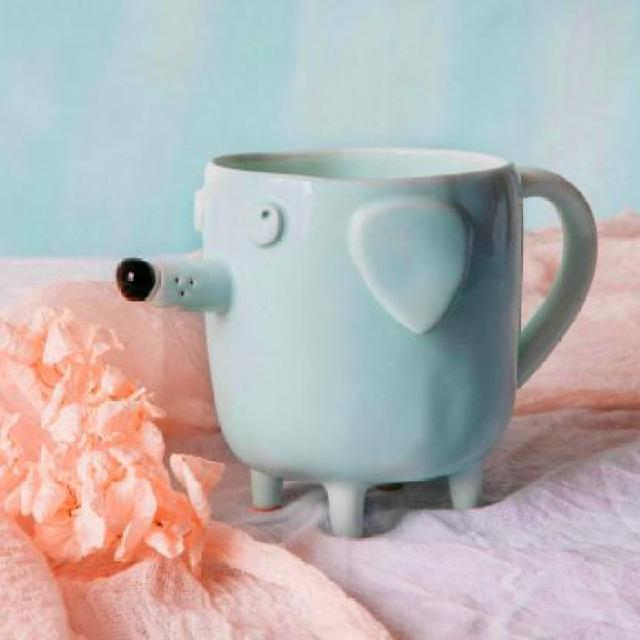cup: (111, 142, 609, 548)
